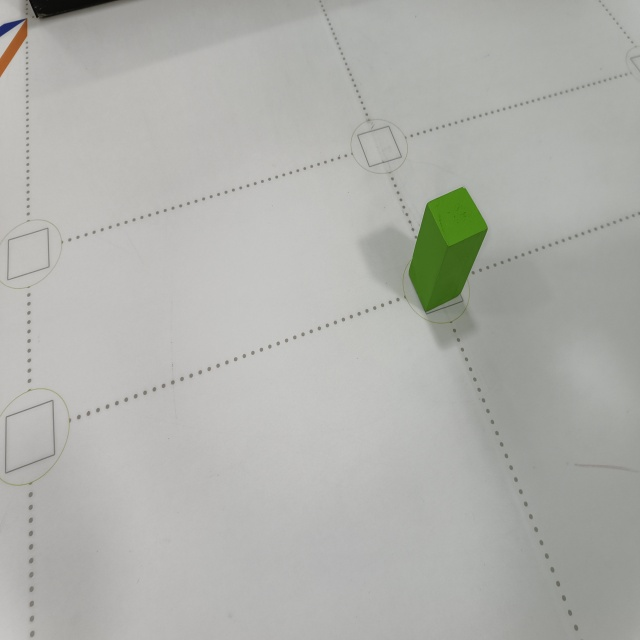green rectangular prism: (405, 184, 490, 315)
